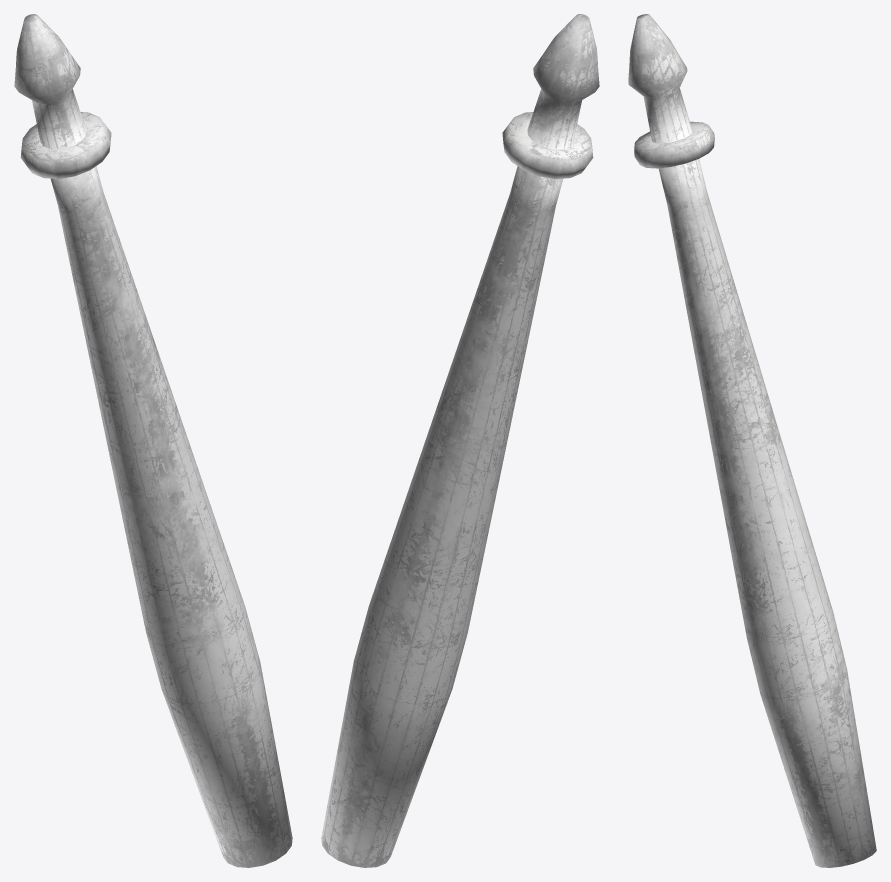
The model's file is Handle.fbx.
3 views of the same model, side by side, from view 1: azimuth 30°, elevation 25°; view 2: azimuth 150°, elevation 25°; view 3: azimuth 330°, elevation 25° (orthographic). The views are drawn at different scales.
Visible parts, largest first — view 1: Handle; view 2: Handle; view 3: Handle.
Part boxes in pixels (left/top/right/bottom): Handle: left=14, top=14, right=292, bottom=867; Handle: left=321, top=14, right=599, bottom=867; Handle: left=628, top=14, right=876, bottom=867.
Size of the model in its own units: 45.98 by 146 by 15.16.
